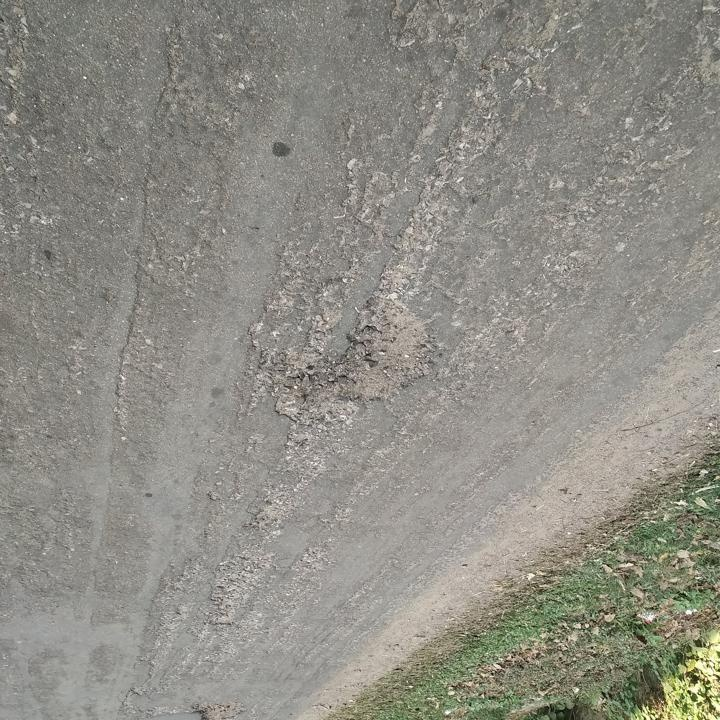pothole: (325, 293, 434, 407)
